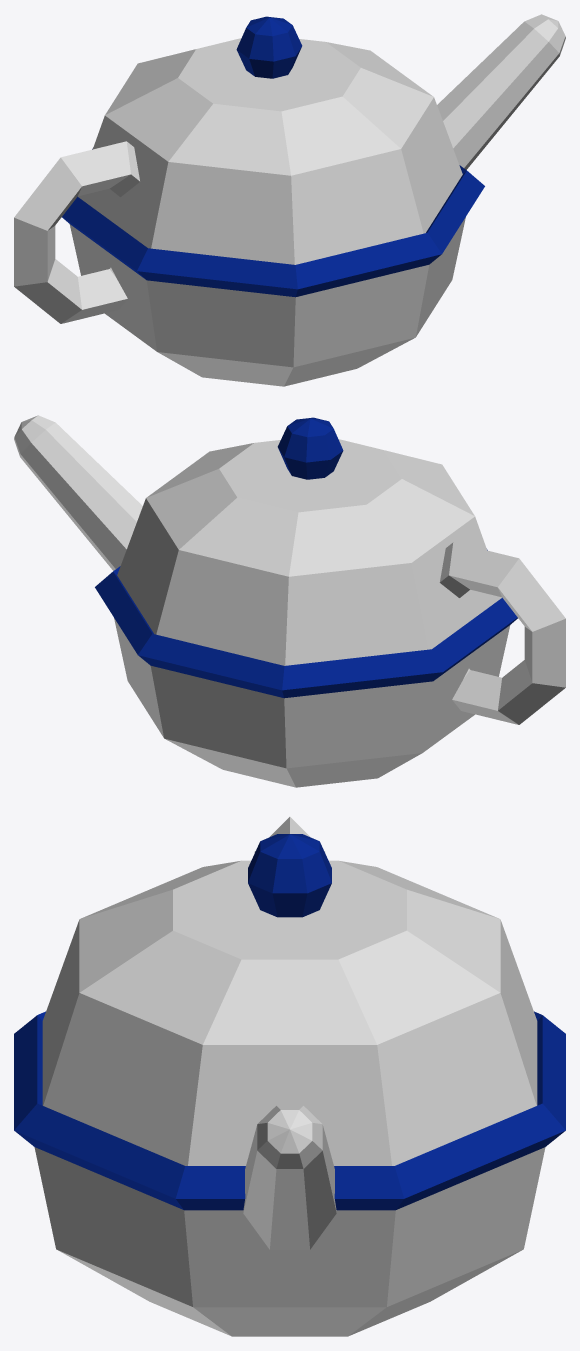
Rendered from teapot.glb.
The picture shows the model from 3 angles, top to bottom: view 1: azimuth 30°, elevation 25°; view 2: azimuth 150°, elevation 25°; view 3: azimuth 270°, elevation 25°; orthographic projection. The views are drawn at different scales.
Visible parts, largest first — view 1: root; view 2: root; view 3: root.
Boxes of the visible parts, <box> form: root: <box>14,14,565,386</box>; root: <box>14,415,565,787</box>; root: <box>14,817,565,1336</box>.
Bounding box in the file's own units: 0.3434 × 0.193 × 0.218.
